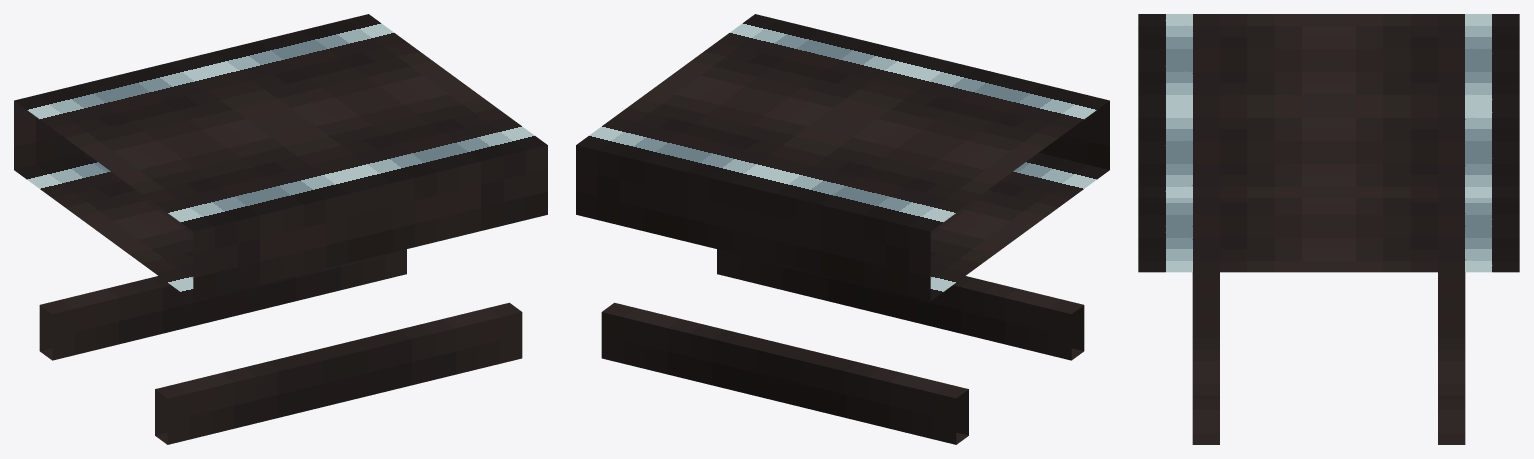
File: table_long_intersection.obj
3 views of the same model, side by side, from view 1: azimuth 30°, elevation 25°; view 2: azimuth 150°, elevation 25°; view 3: azimuth 270°, elevation 25° (orthographic). The views are drawn at different scales.
Parts seen in each view (by area): view 1: LONG_INTERSECTION_TABLE_TOP_Cube.028, LONG_INTERSECTION_TABLE_LEGS_Cube.027; view 2: LONG_INTERSECTION_TABLE_TOP_Cube.028, LONG_INTERSECTION_TABLE_LEGS_Cube.027; view 3: LONG_INTERSECTION_TABLE_TOP_Cube.028, LONG_INTERSECTION_TABLE_LEGS_Cube.027.
Boxes of the visible parts, left/top/right/bottom form: LONG_INTERSECTION_TABLE_TOP_Cube.028: left=14, top=14, right=547, bottom=301; LONG_INTERSECTION_TABLE_LEGS_Cube.027: left=39, top=249, right=522, bottom=444; LONG_INTERSECTION_TABLE_TOP_Cube.028: left=576, top=14, right=1109, bottom=301; LONG_INTERSECTION_TABLE_LEGS_Cube.027: left=601, top=249, right=1084, bottom=444; LONG_INTERSECTION_TABLE_TOP_Cube.028: left=1138, top=14, right=1519, bottom=272; LONG_INTERSECTION_TABLE_LEGS_Cube.027: left=1192, top=272, right=1465, bottom=444.
Size of the model in its own units: 1 by 0.625 by 0.875.
